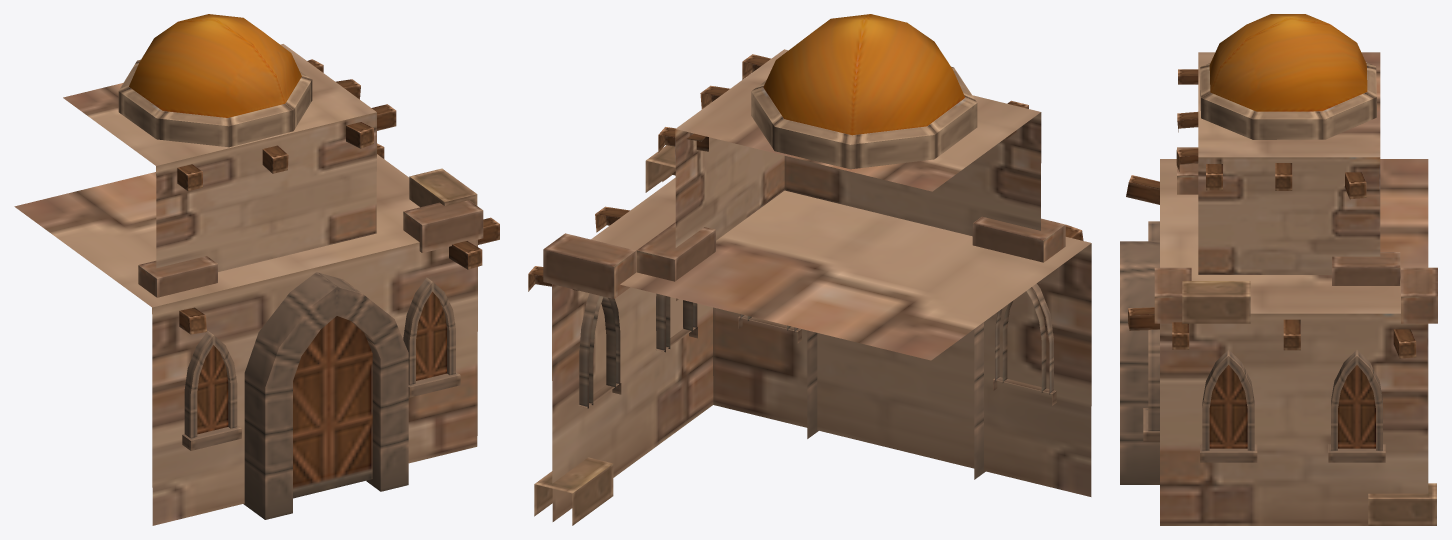
The model's file is mine_prop_2_1.FBX.
3 views of the same model, side by side, from view 1: azimuth 30°, elevation 25°; view 2: azimuth 150°, elevation 25°; view 3: azimuth 270°, elevation 25° (orthographic). The views are drawn at different scales.
Visible parts, largest first — view 1: mine_prop_2_1; view 2: mine_prop_2_1; view 3: mine_prop_2_1.
Part boxes in pixels (<box>): mine_prop_2_1: <box>14,14,499,525</box>; mine_prop_2_1: <box>528,14,1091,525</box>; mine_prop_2_1: <box>1120,14,1437,525</box>.
Size of the model in its own units: 95.69 by 110 by 76.27.
